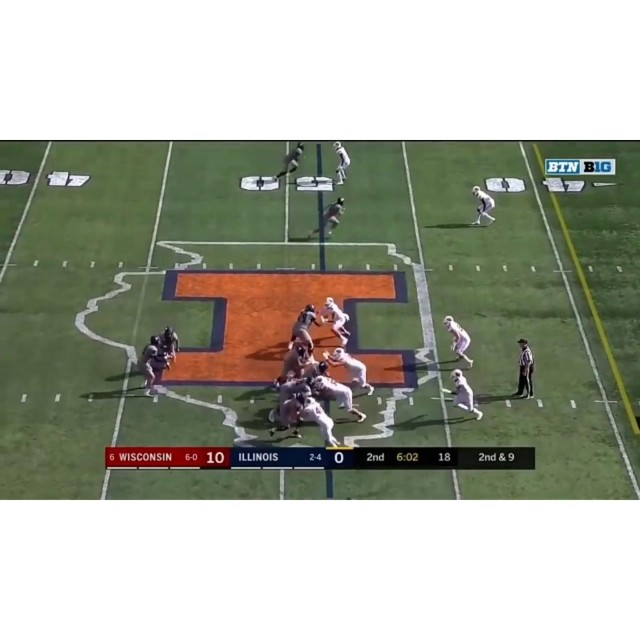american-football-player: (312, 374, 368, 424), (325, 346, 374, 396), (267, 388, 311, 440), (301, 396, 343, 447), (268, 342, 311, 391), (140, 338, 172, 401), (447, 368, 483, 421), (287, 304, 321, 356), (307, 196, 346, 240), (443, 315, 473, 369), (322, 296, 351, 346), (274, 143, 305, 182), (471, 185, 496, 226), (160, 324, 180, 365), (332, 141, 351, 184)
referee: (510, 338, 535, 401)
